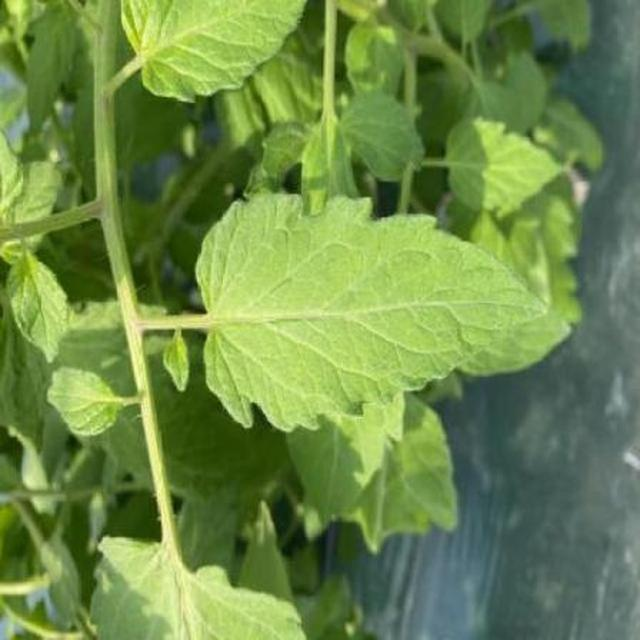Healthy Leaf: (55, 99, 532, 573)
